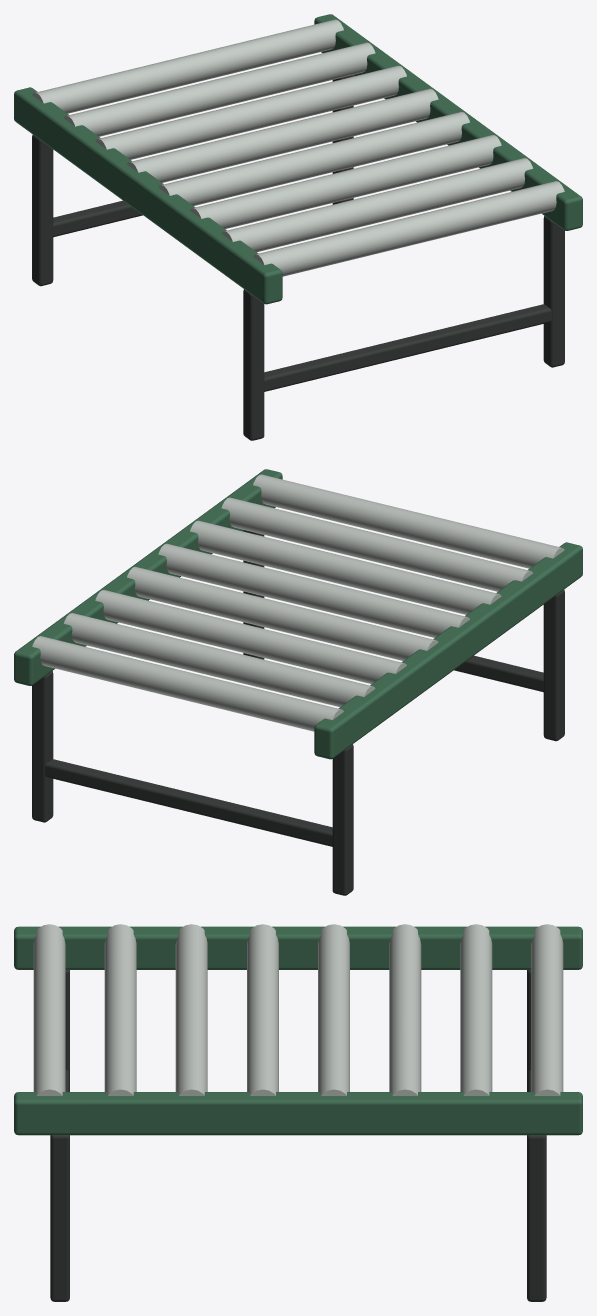
Rendered from sawmill-and-timber-yard-roller-outfeed-straight-90a65539__31172.glb.
The picture shows the model from 3 angles, top to bottom: view 1: azimuth 30°, elevation 25°; view 2: azimuth 150°, elevation 25°; view 3: azimuth 270°, elevation 25°; orthographic projection. The views are drawn at different scales.
Visible parts, largest first — view 1: roller-outfeed-straight; view 2: roller-outfeed-straight; view 3: roller-outfeed-straight.
Part boxes in pixels (left/top/right/bottom): roller-outfeed-straight: left=14, top=14, right=582, bottom=440; roller-outfeed-straight: left=14, top=469, right=582, bottom=895; roller-outfeed-straight: left=14, top=924, right=582, bottom=1301.
Bounding box in the file's own units: 1.17 × 0.65 × 1.6.
